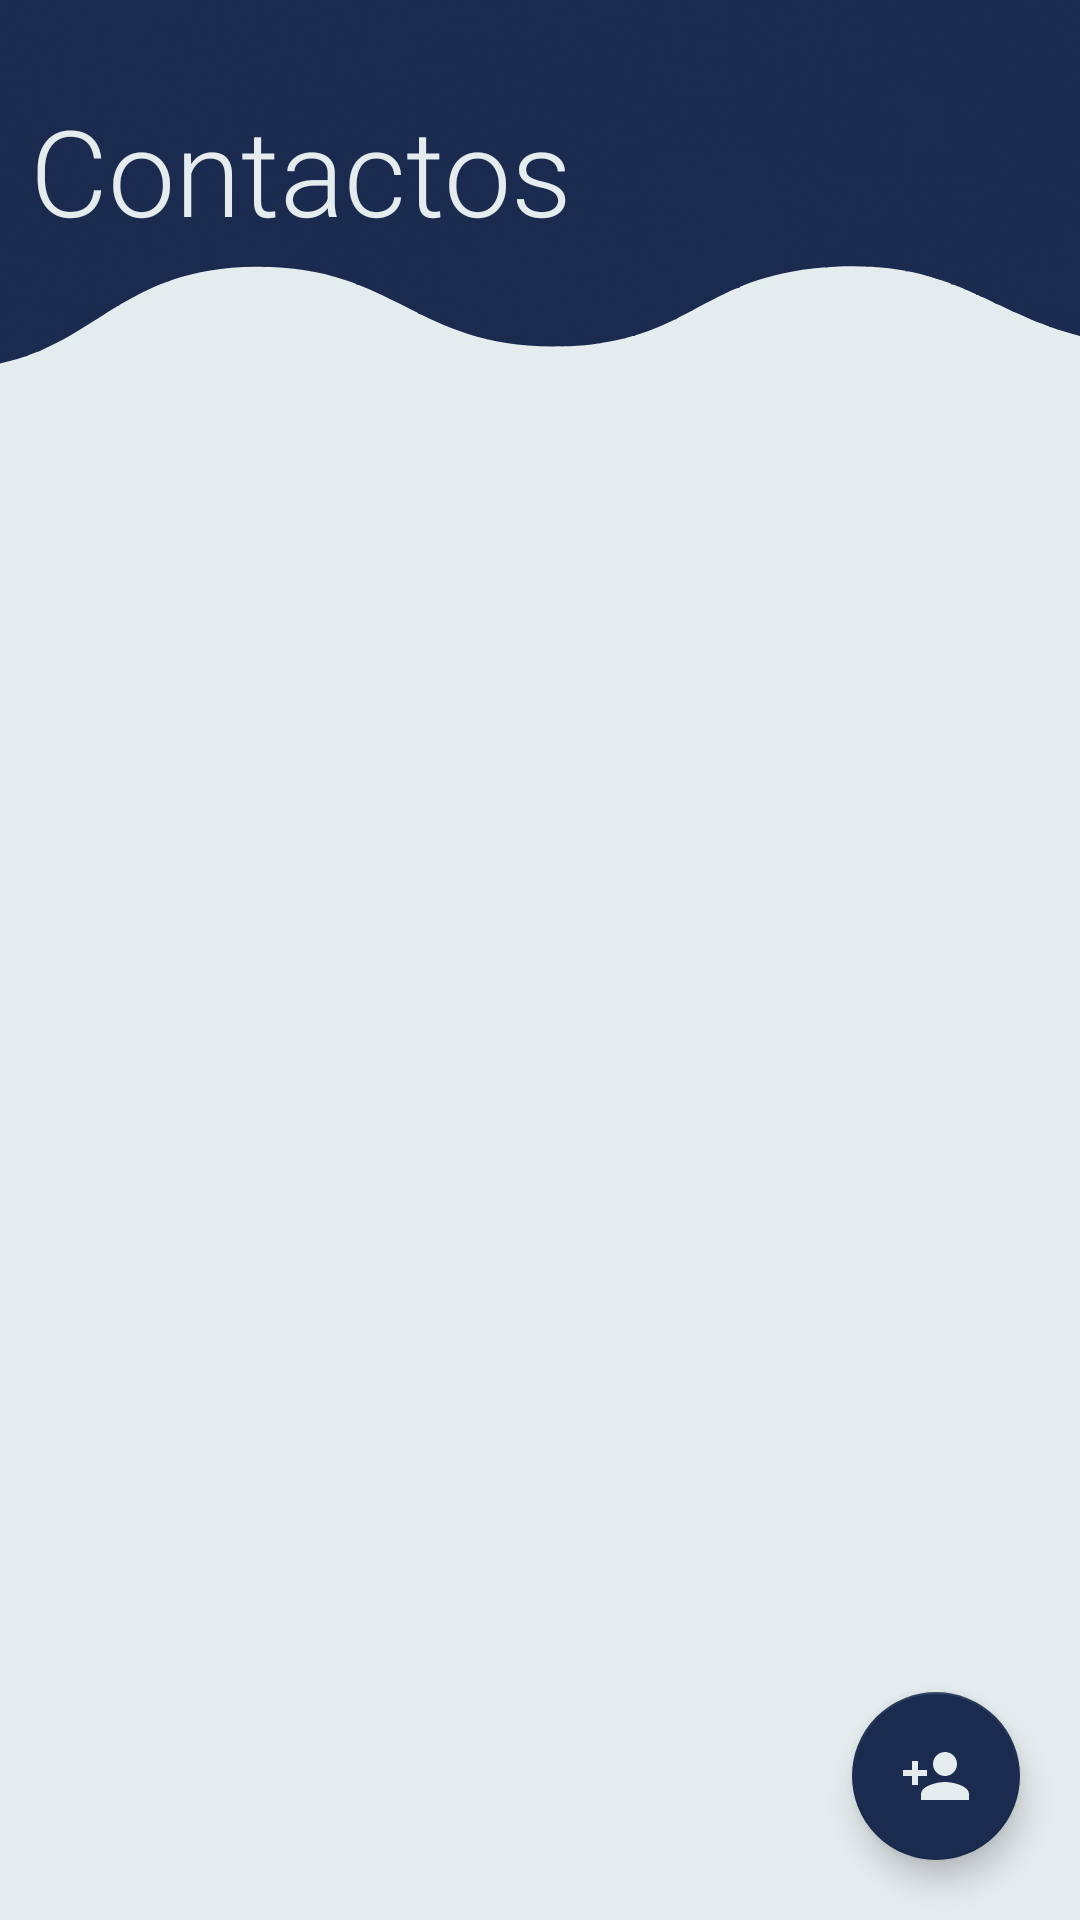

Icon click points for this 1080×1920 phone screenshot, format (x,y):
person add: (936,1776)
